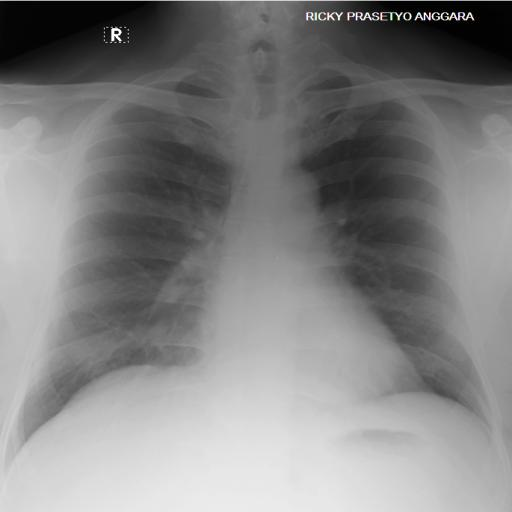kardiomegali: (3, 35, 506, 457)
